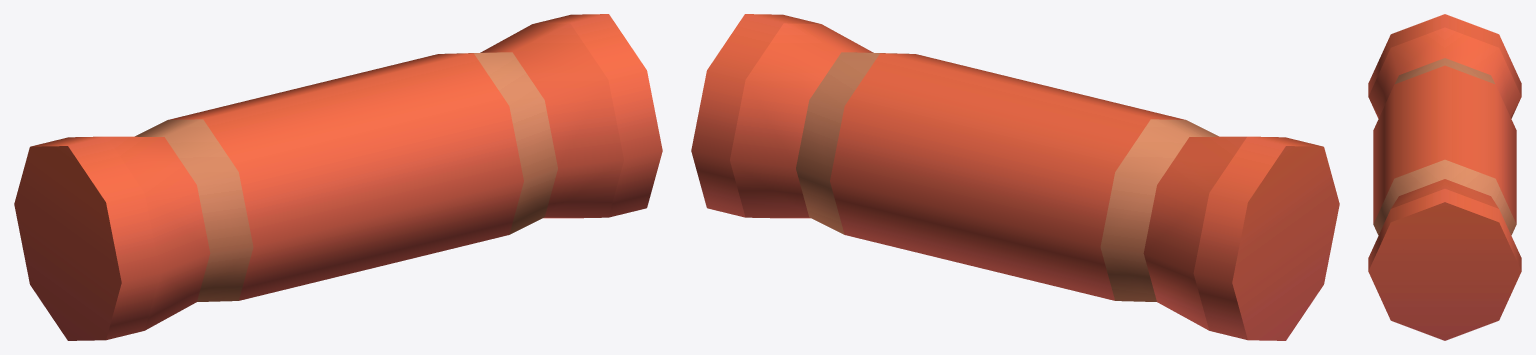
Rendered from k-survival-bedroll-packed.glb.
3 views of the same model, side by side, from view 1: azimuth 30°, elevation 25°; view 2: azimuth 150°, elevation 25°; view 3: azimuth 270°, elevation 25° (orthographic). The views are drawn at different scales.
Visible parts, largest first — view 1: bedroll-packed; view 2: bedroll-packed; view 3: bedroll-packed.
Boxes of the visible parts, left/top/right/bottom form: bedroll-packed: left=14, top=14, right=662, bottom=340; bedroll-packed: left=691, top=14, right=1339, bottom=340; bedroll-packed: left=1368, top=14, right=1521, bottom=340.
Size of the model in its own units: 0.2604 by 0.0897 by 0.0897.
Materials: 1 (1 with a texture image).
